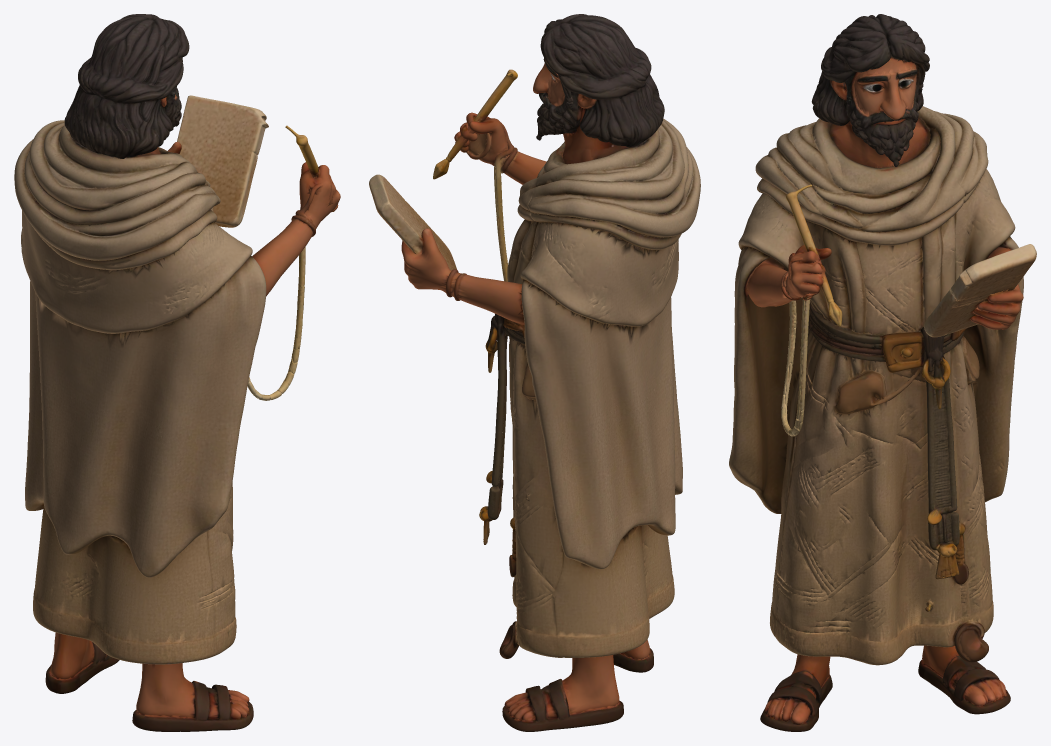
Rendered from Babylonian_Astronomer.min.glb.
3 views of the same model, side by side, from view 1: azimuth 30°, elevation 25°; view 2: azimuth 150°, elevation 25°; view 3: azimuth 270°, elevation 25° (orthographic). The views are drawn at different scales.
Visible parts, largest first — view 1: tripo_node_27888642-7adb-4141-9ac7-ca1f1de834a5; view 2: tripo_node_27888642-7adb-4141-9ac7-ca1f1de834a5; view 3: tripo_node_27888642-7adb-4141-9ac7-ca1f1de834a5.
Boxes of the visible parts, x1,y1,x2,y2 form: tripo_node_27888642-7adb-4141-9ac7-ca1f1de834a5: [14, 14, 340, 731]; tripo_node_27888642-7adb-4141-9ac7-ca1f1de834a5: [369, 14, 700, 731]; tripo_node_27888642-7adb-4141-9ac7-ca1f1de834a5: [729, 14, 1036, 731].
Bounding box in the file's own units: 0.4167 × 0.9788 × 0.4024.
1 material, 1 textured.
